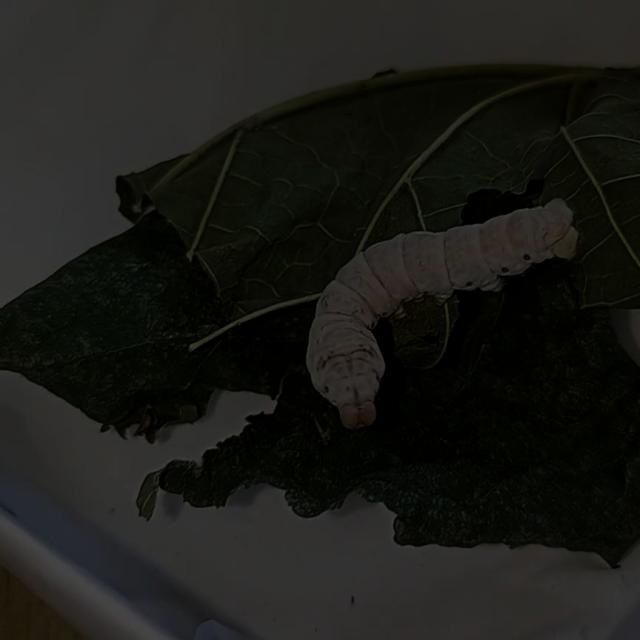Healthy: (299, 193, 581, 432)
